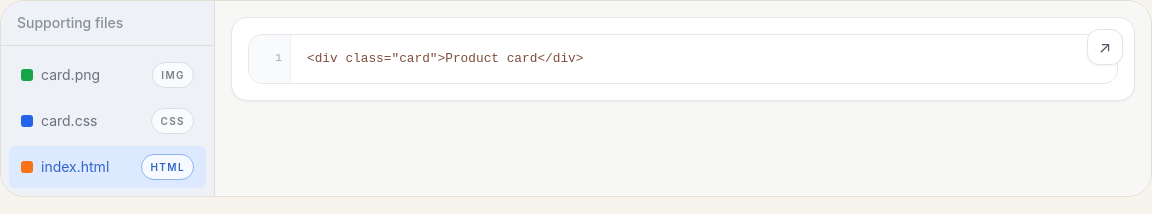
it: ExamQuestionMockup › switches to another code file when clicked
Click the button "card.css CSS".
click(108, 121)  # box [9,100,206,142]
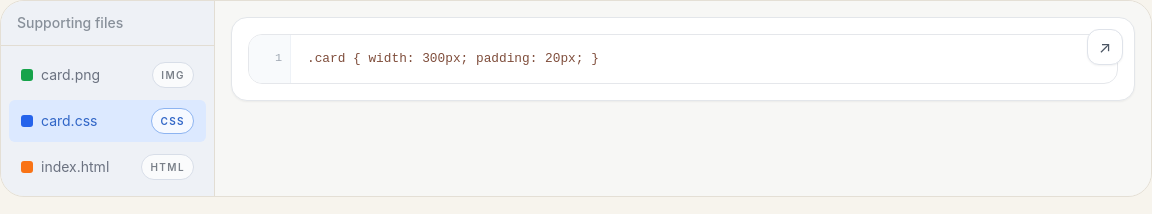
Result: the text ".card { width: 300px; padding: 20px; }" is shown at [307,51,599,66]
Result: the text "<div class=\"card\">Product card</div>" is gone
